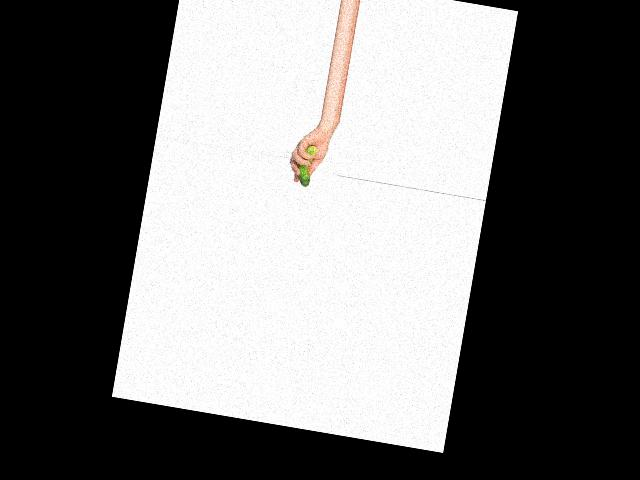cucumber: (295, 143, 317, 187)
